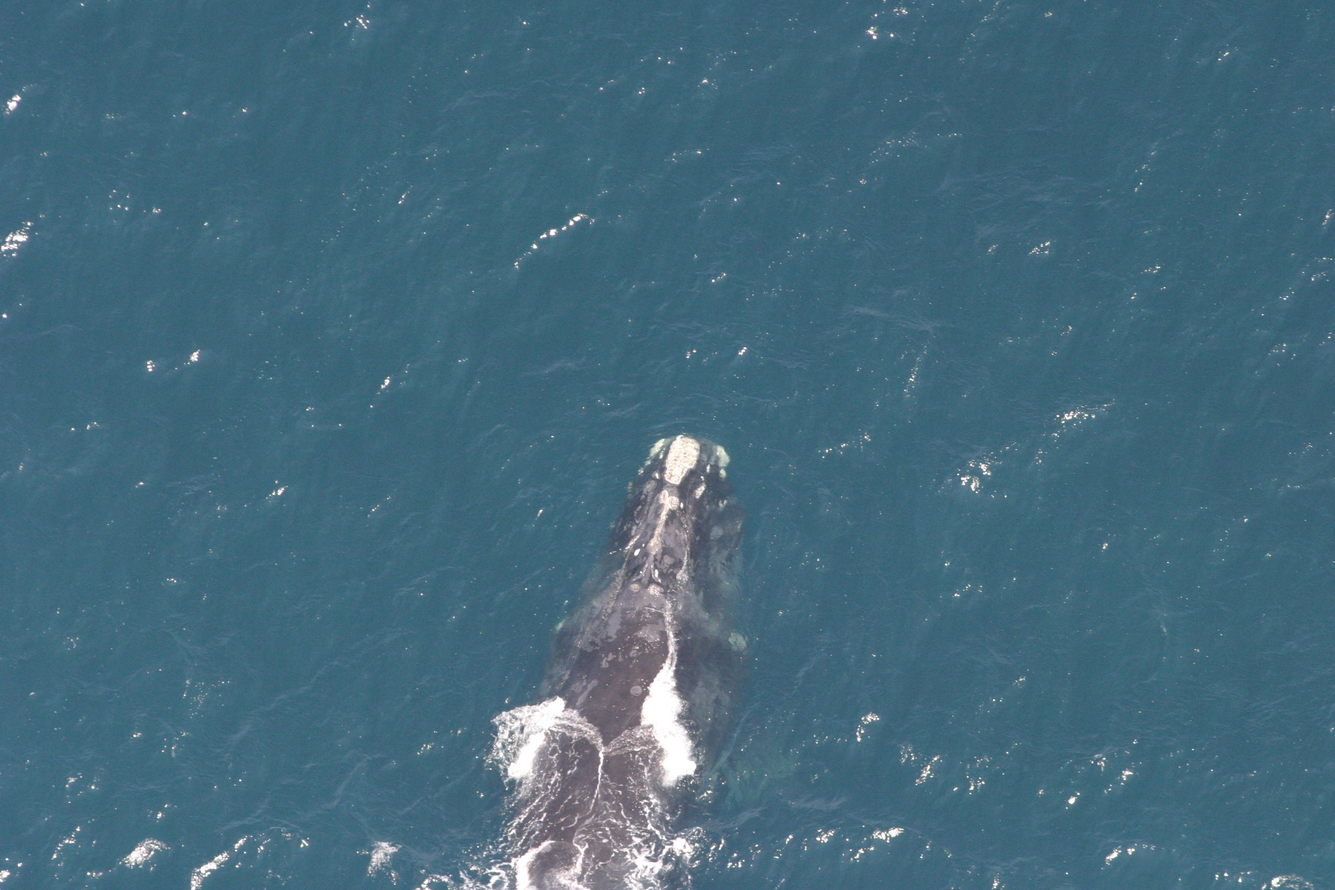whale: (480, 425, 851, 890)
